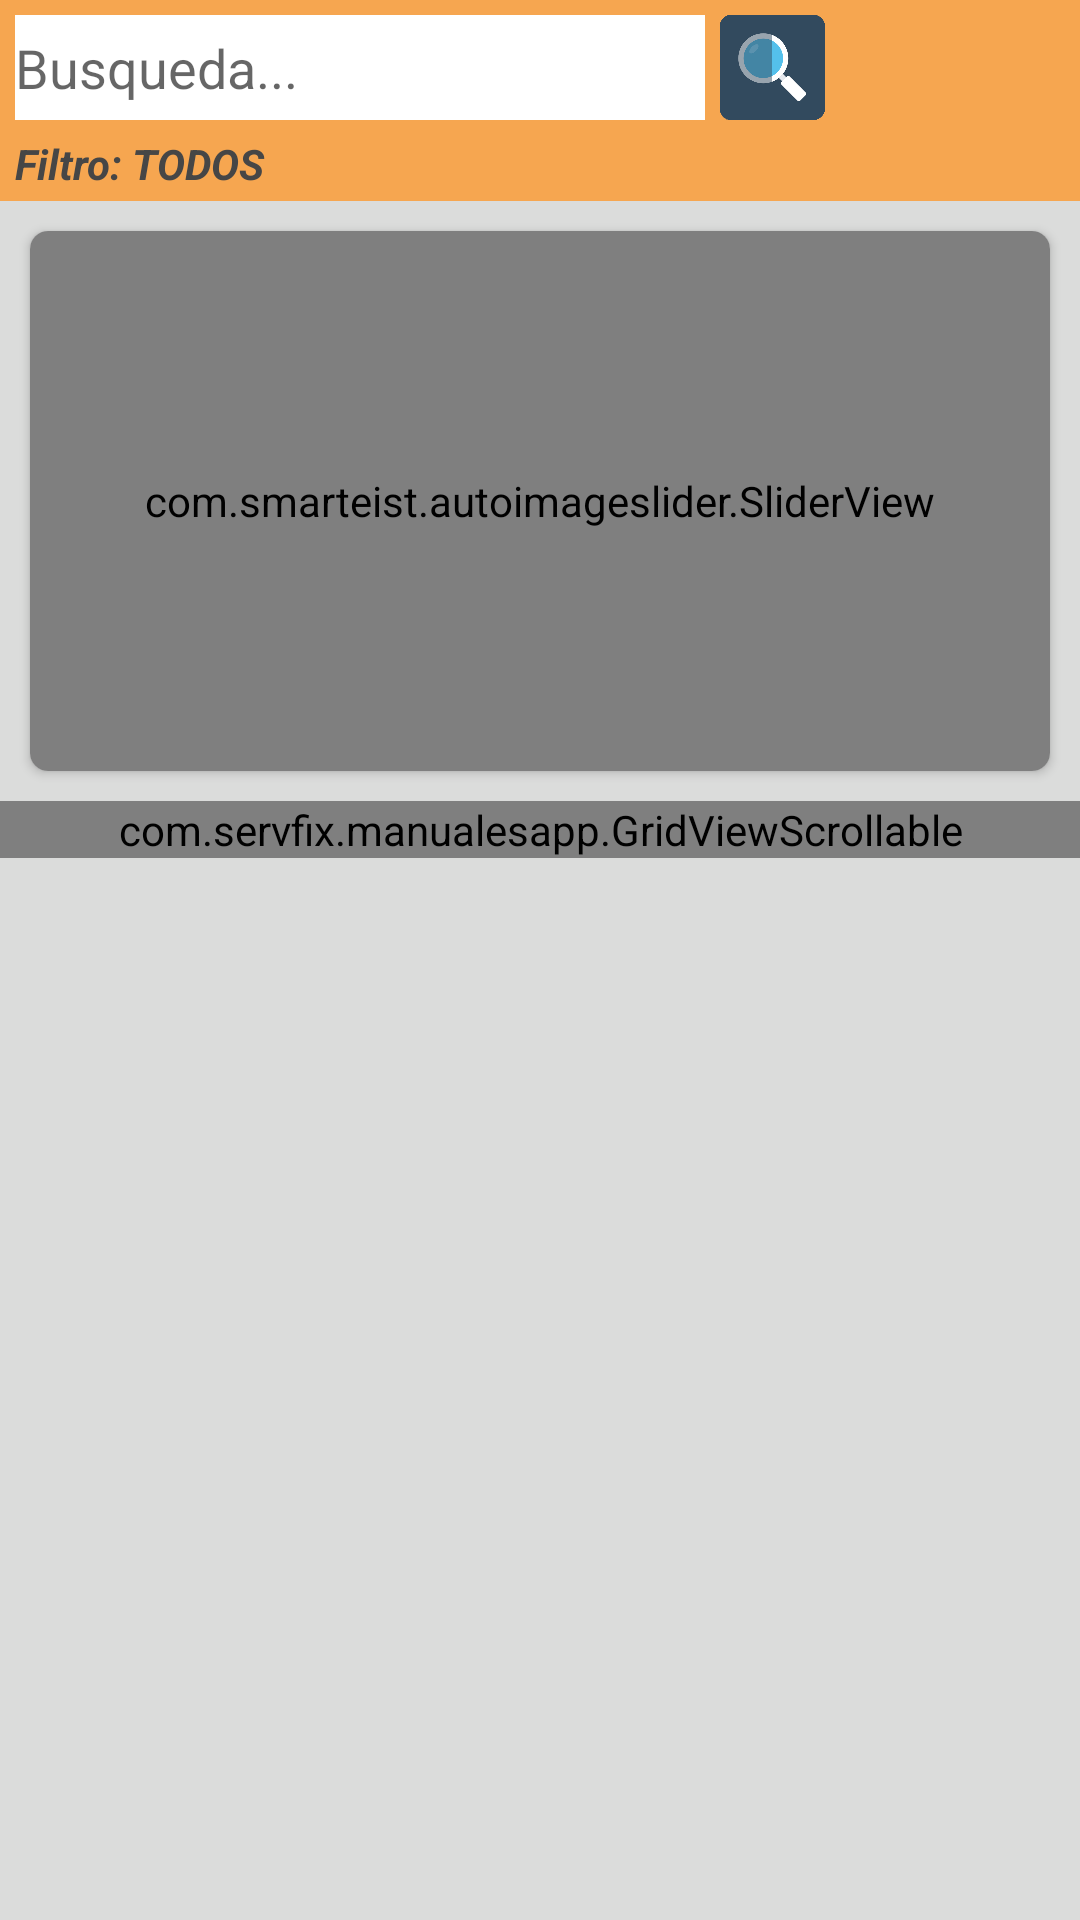

Screen size 1080×1920. Icon name, then its center in pixels as (x=x, y=y):
lupa: (x=772, y=67)
